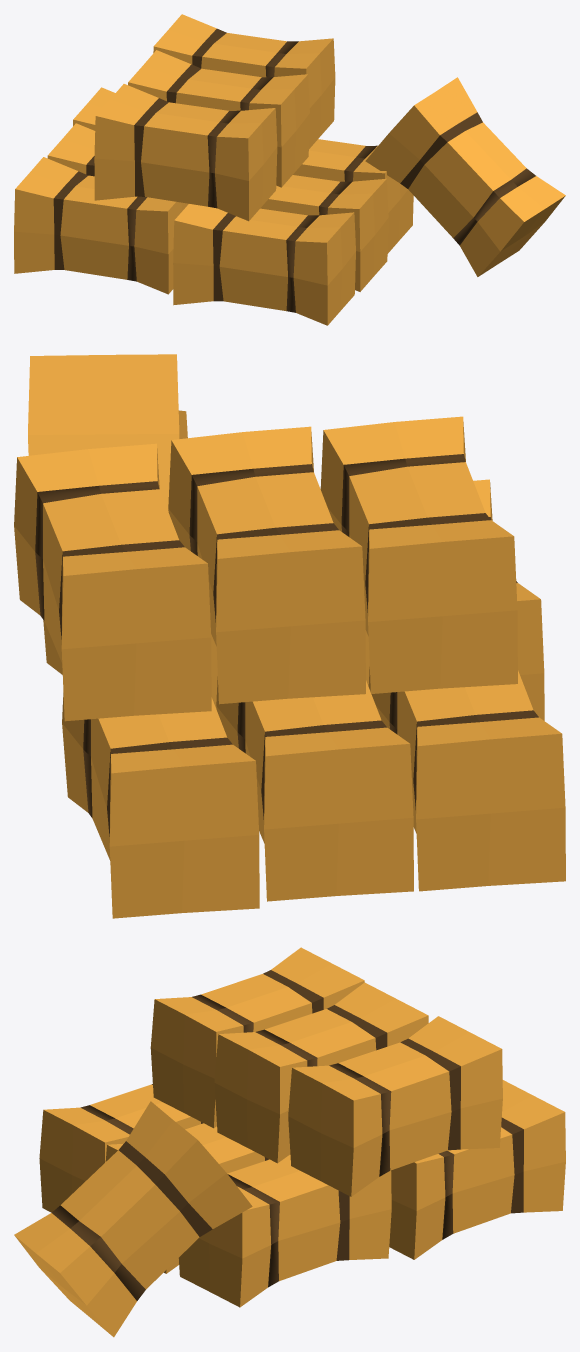
File: hay.glb
3 views of the same model, one above another, from view 1: azimuth 30°, elevation 25°; view 2: azimuth 150°, elevation 25°; view 3: azimuth 270°, elevation 25° (orthographic). The views are drawn at different scales.
Parts seen in each view (by area): view 1: hay1.001; view 2: hay1.001; view 3: hay1.001.
Boxes of the visible parts, x1=… form: hay1.001: x1=14, y1=14, x2=565, y2=325; hay1.001: x1=14, y1=354, x2=565, y2=918; hay1.001: x1=14, y1=947, x2=565, y2=1337.
Size of the model in its own units: 5.18 by 1.93 by 4.93.
